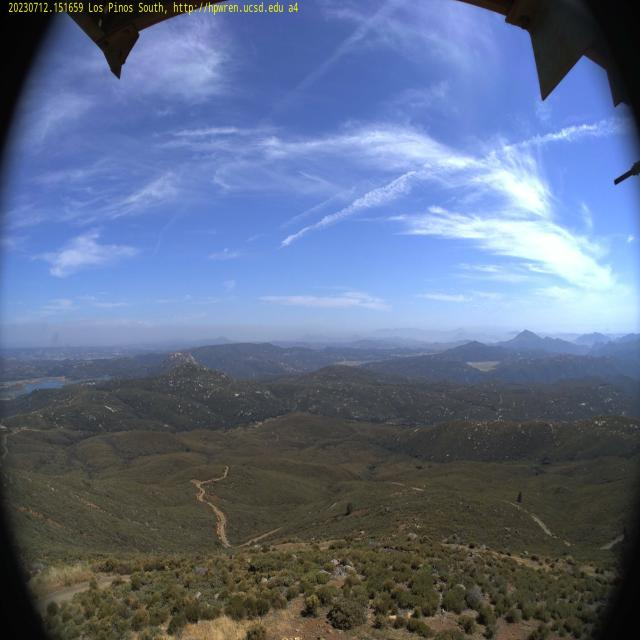smoke: (36, 318, 76, 362)
